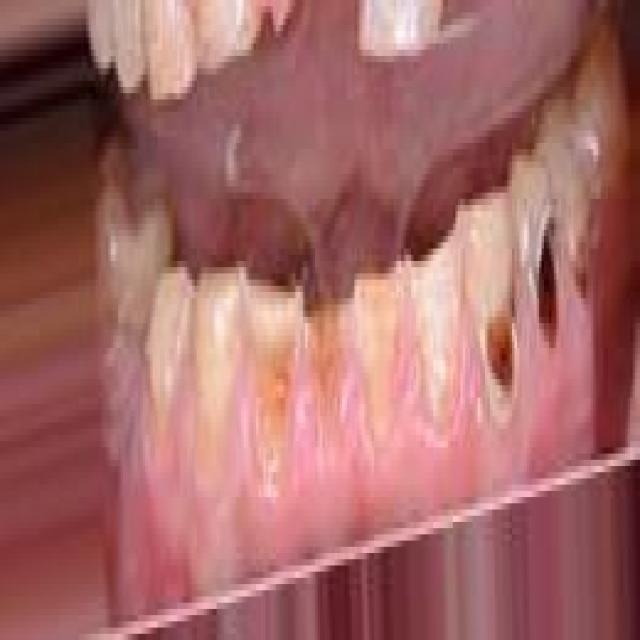caries: (233, 260, 300, 476), (352, 256, 417, 450), (468, 234, 527, 430), (524, 191, 575, 372), (303, 284, 357, 419)
